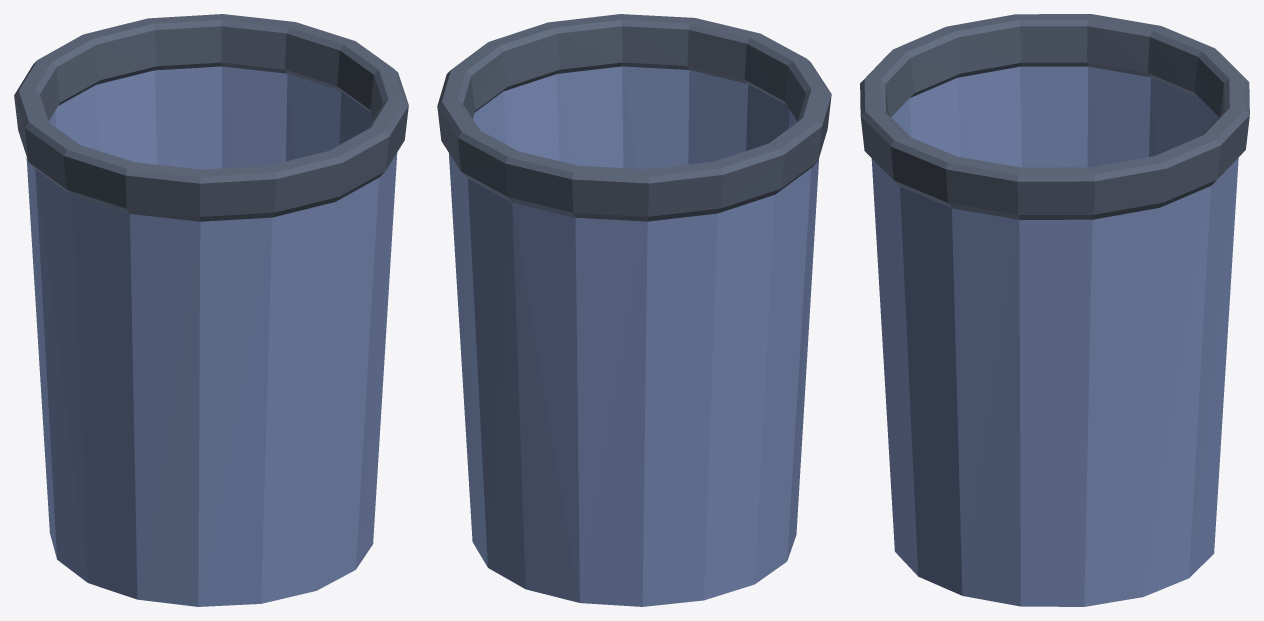
File: trashBin.fbx
3 renders of one model, left to right at view 1: azimuth 30°, elevation 25°; view 2: azimuth 150°, elevation 25°; view 3: azimuth 270°, elevation 25°, orthographic.
Parts seen in each view (by area): view 1: trashbin; view 2: trashbin; view 3: trashbin.
Part boxes in pixels (<box>): trashbin: <box>14,14,408,606</box>; trashbin: <box>437,14,831,606</box>; trashbin: <box>860,14,1249,606</box>.
Bounding box in the file's own units: 61.19 × 77.16 × 61.19.
